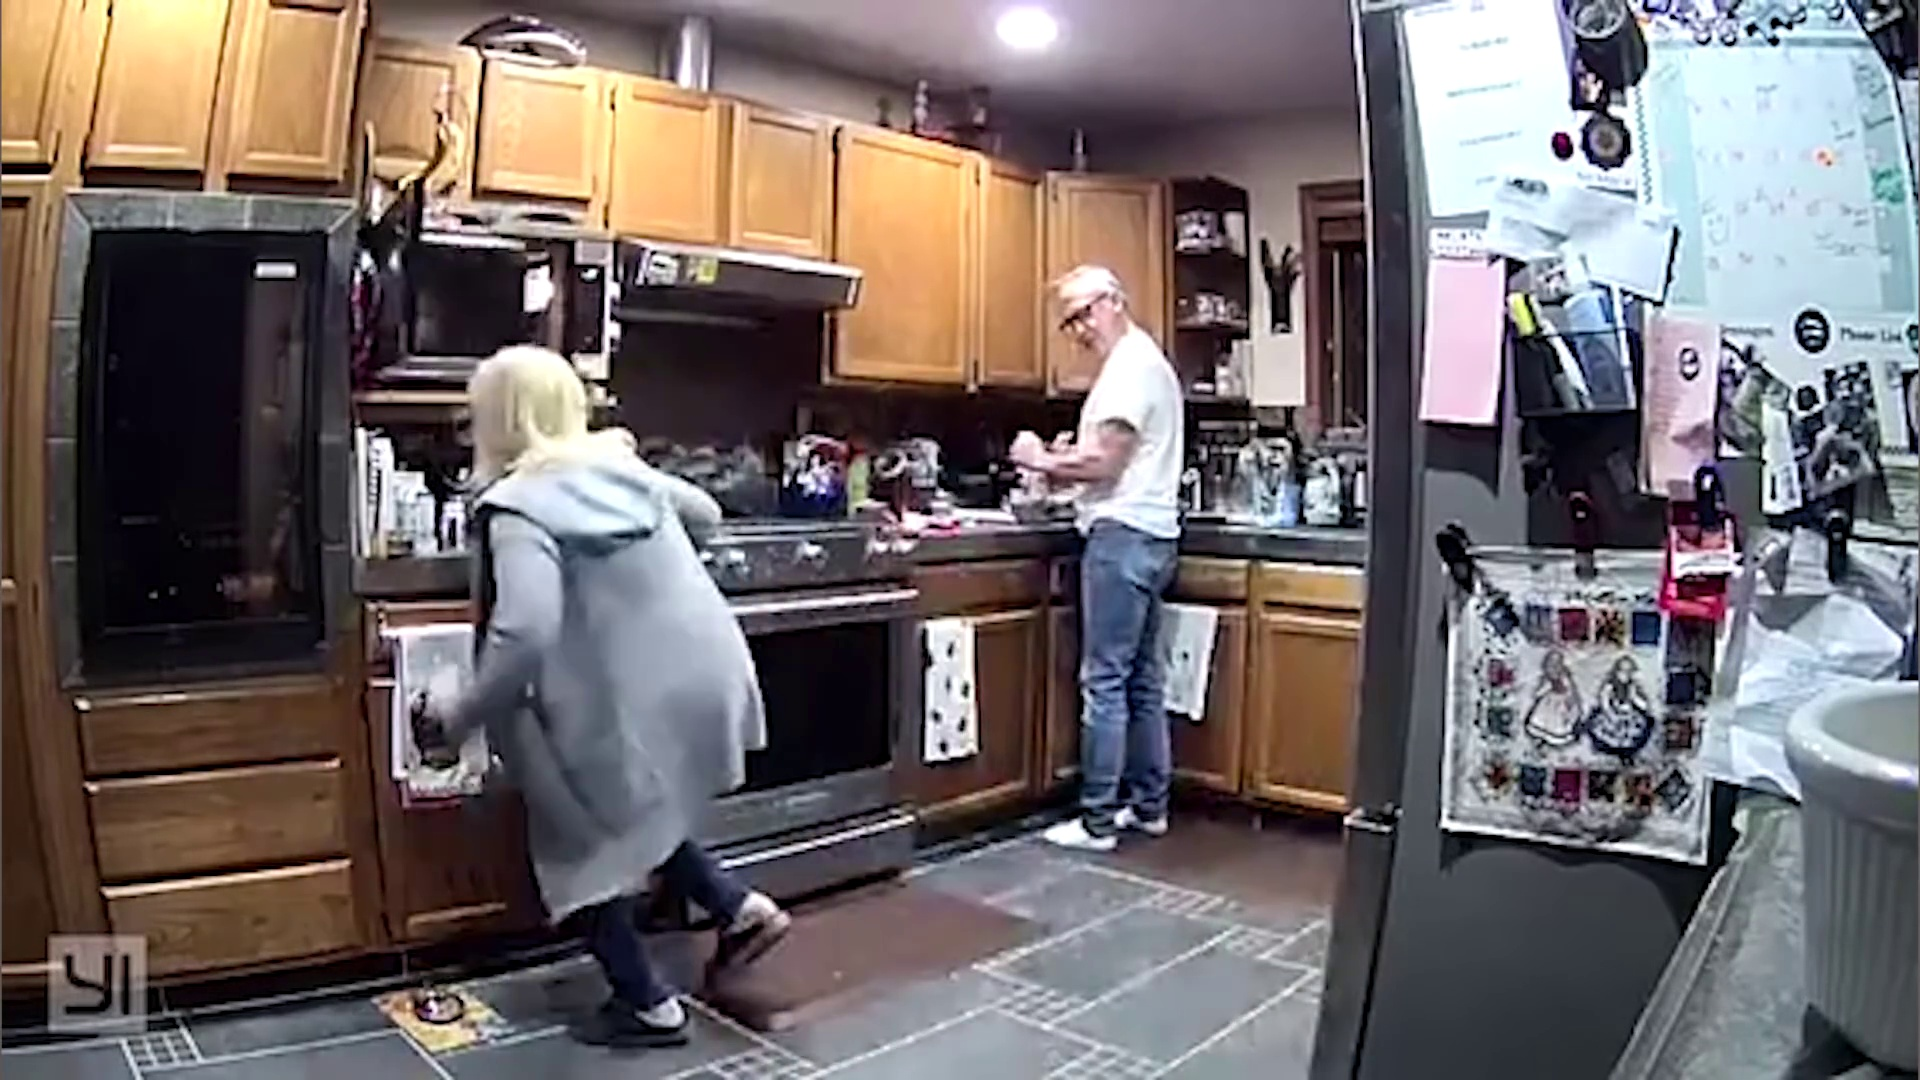face: (1055, 288, 1104, 355)
